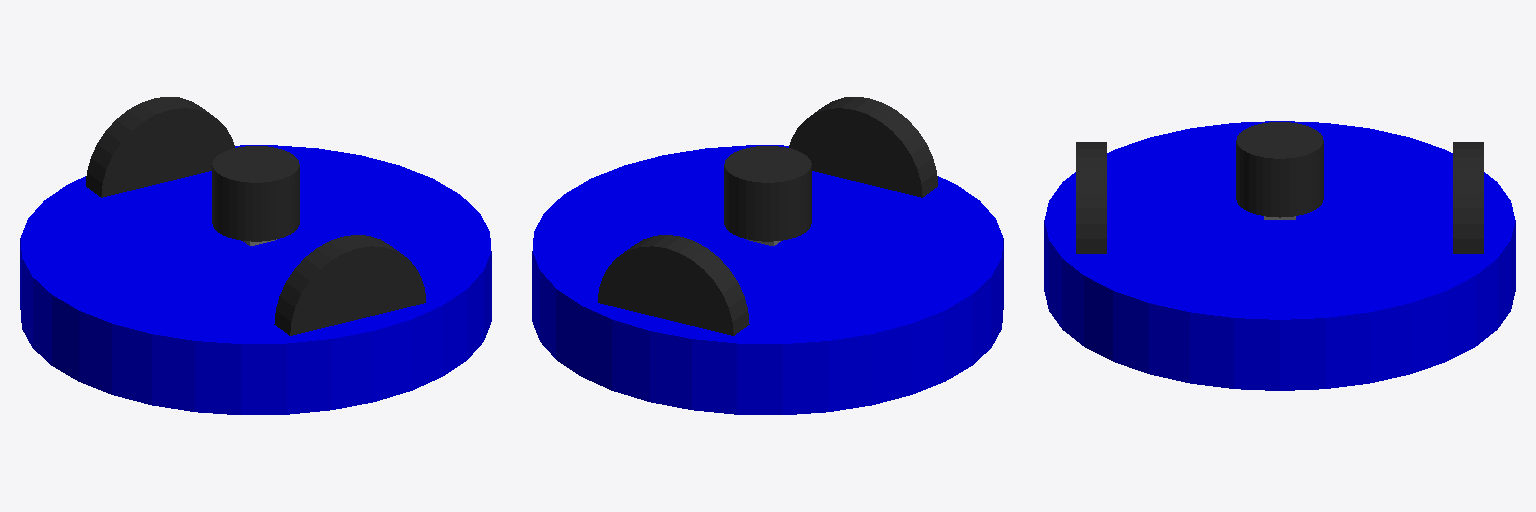
The robot description file, URDF, robot "robot_with_rplidar_c1":
<?xml version="1.0"?>
<robot name="robot_with_rplidar_c1">
  <!--
    Example: Robot with RPlidar C1 Sensor
    로봇의 상단(top)에 센서를 마운트하는 예제
  -->

  <!-- 로봇 베이스 (예제: 원형 로봇 베이스) -->
  <link name="base_link">
    <visual>
      <geometry>
        <cylinder radius="0.15" length="0.05"/>
      </geometry>
      <origin xyz="0 0 0.025" rpy="0 0 0"/>
      <material name="blue">
        <color rgba="0.0 0.0 1.0 1.0"/>
      </material>
    </visual>
    
    <collision>
      <geometry>
        <cylinder radius="0.15" length="0.05"/>
      </geometry>
      <origin xyz="0 0 0.025" rpy="0 0 0"/>
    </collision>
    
    <inertial>
      <mass value="5.0"/>
      <inertia ixx="0.1" ixy="0.0" ixz="0.0" 
               iyy="0.1" iyz="0.0" 
               izz="0.2"/>
    </inertial>
  </link>

  <!-- 센서 마운팅 브래킷 (선택사항) -->
  <link name="rplidar_mount">
    <visual>
      <geometry>
        <box size="0.02 0.02 0.02"/>
      </geometry>
      <origin xyz="0 0 0" rpy="0 0 0"/>
      <material name="gray">
        <color rgba="0.5 0.5 0.5 1.0"/>
      </material>
    </visual>
    
    <collision>
      <geometry>
        <box size="0.02 0.02 0.02"/>
      </geometry>
    </collision>
    
    <inertial>
      <mass value="0.05"/>
      <inertia ixx="0.00001" ixy="0.0" ixz="0.0" 
               iyy="0.00001" iyz="0.0" 
               izz="0.00001"/>
    </inertial>
  </link>

  <!-- 베이스에서 마운트로의 조인트 -->
  <joint name="base_to_rplidar_mount" type="fixed">
    <parent link="base_link"/>
    <child link="rplidar_mount"/>
    <!-- 로봇 상단 중앙에 마운트 -->
    <origin xyz="0 0 0.065" rpy="0 0 0"/>
  </joint>

  <!-- RPlidar C1 베이스 -->
  <link name="rplidar_c1_base">
    <visual>
      <geometry>
        <cylinder radius="0.0278" length="0.0413"/>
      </geometry>
      <origin xyz="0 0 0" rpy="0 0 0"/>
      <material name="black">
        <color rgba="0.2 0.2 0.2 1.0"/>
      </material>
    </visual>
    
    <collision>
      <geometry>
        <cylinder radius="0.0278" length="0.0413"/>
      </geometry>
      <origin xyz="0 0 0" rpy="0 0 0"/>
    </collision>
    
    <inertial>
      <mass value="0.11"/>
      <inertia ixx="0.0001" ixy="0.0" ixz="0.0" 
               iyy="0.0001" iyz="0.0" 
               izz="0.0000425"/>
    </inertial>
  </link>

  <!-- 마운트에서 센서로의 조인트 -->
  <joint name="rplidar_mount_to_base" type="fixed">
    <parent link="rplidar_mount"/>
    <child link="rplidar_c1_base"/>
    <!-- 마운트 상단에 센서 배치 -->
    <origin xyz="0 0 0.02065" rpy="0 0 0"/>
  </joint>

  <!-- 레이저 스캔 프레임 -->
  <link name="rplidar_c1_laser">
    <inertial>
      <mass value="0.0"/>
      <inertia ixx="0.0" ixy="0.0" ixz="0.0" 
               iyy="0.0" iyz="0.0" 
               izz="0.0"/>
    </inertial>
  </link>

  <!-- 센서 중심에 레이저 프레임 배치 -->
  <joint name="rplidar_c1_base_to_laser" type="fixed">
    <parent link="rplidar_c1_base"/>
    <child link="rplidar_c1_laser"/>
    <origin xyz="0 0 0" rpy="0 0 0"/>
  </joint>

  <!-- 휠 (예제용) -->
  <link name="left_wheel">
    <visual>
      <geometry>
        <cylinder radius="0.05" length="0.02"/>
      </geometry>
      <origin xyz="0 0 0" rpy="1.5708 0 0"/>
      <material name="black"/>
    </visual>
    
    <collision>
      <geometry>
        <cylinder radius="0.05" length="0.02"/>
      </geometry>
      <origin xyz="0 0 0" rpy="1.5708 0 0"/>
    </collision>
    
    <inertial>
      <mass value="0.5"/>
      <inertia ixx="0.001" ixy="0.0" ixz="0.0" 
               iyy="0.001" iyz="0.0" 
               izz="0.001"/>
    </inertial>
  </link>

  <joint name="left_wheel_joint" type="revolute">
    <parent link="base_link"/>
    <child link="left_wheel"/>
    <origin xyz="0 0.12 0.05" rpy="0 0 0"/>
    <axis xyz="0 1 0"/>
    <limit lower="0" upper="0" effort="0" velocity="0"/>
  </joint>

  <link name="right_wheel">
    <visual>
      <geometry>
        <cylinder radius="0.05" length="0.02"/>
      </geometry>
      <origin xyz="0 0 0" rpy="1.5708 0 0"/>
      <material name="black"/>
    </visual>
    
    <collision>
      <geometry>
        <cylinder radius="0.05" length="0.02"/>
      </geometry>
      <origin xyz="0 0 0" rpy="1.5708 0 0"/>
    </collision>
    
    <inertial>
      <mass value="0.5"/>
      <inertia ixx="0.001" ixy="0.0" ixz="0.0" 
               iyy="0.001" iyz="0.0" 
               izz="0.001"/>
    </inertial>
  </link>

  <joint name="right_wheel_joint" type="revolute">
    <parent link="base_link"/>
    <child link="right_wheel"/>
    <origin xyz="0 -0.12 0.05" rpy="0 0 0"/>
    <axis xyz="0 1 0"/>
    <limit lower="0" upper="0" effort="0" velocity="0"/>
  </joint>

  <!-- 머티리얼 정의 -->
  <material name="blue">
    <color rgba="0.0 0.0 1.0 1.0"/>
  </material>

  <material name="black">
    <color rgba="0.2 0.2 0.2 1.0"/>
  </material>

  <material name="gray">
    <color rgba="0.5 0.5 0.5 1.0"/>
  </material>

</robot>

--- Facts derived from the render (not from the file) ---
Views: 3 orthographic renders of the robot side by side, from view 1: azimuth 30°, elevation 25°; view 2: azimuth 150°, elevation 25°; view 3: azimuth 270°, elevation 25°.
Robot: robot_with_rplidar_c1 — 6 links, 5 joints (2 revolute, 3 fixed); root link base_link; default pose: all joints at 0.
Visible links, largest first — view 1: base_link, right_wheel, left_wheel, rplidar_c1_base; view 2: base_link, left_wheel, right_wheel, rplidar_c1_base; view 3: base_link, rplidar_c1_base, left_wheel, right_wheel.
Link boxes in pixels (x1=…): base_link: x1=20, y1=145, x2=491, y2=414; right_wheel: x1=274, y1=235, x2=425, y2=335; left_wheel: x1=86, y1=97, x2=234, y2=197; rplidar_c1_base: x1=212, y1=146, x2=299, y2=241; base_link: x1=532, y1=145, x2=1003, y2=414; left_wheel: x1=598, y1=235, x2=749, y2=335; right_wheel: x1=789, y1=97, x2=937, y2=197; rplidar_c1_base: x1=724, y1=146, x2=811, y2=241; base_link: x1=1044, y1=121, x2=1515, y2=390; rplidar_c1_base: x1=1236, y1=122, x2=1323, y2=217; left_wheel: x1=1453, y1=142, x2=1483, y2=253; right_wheel: x1=1076, y1=142, x2=1106, y2=253.
Size in the robot's own frame: 0.3 by 0.3 by 0.1063 metres.
Geometry: primitives only (box / cylinder / sphere), no mesh files.
